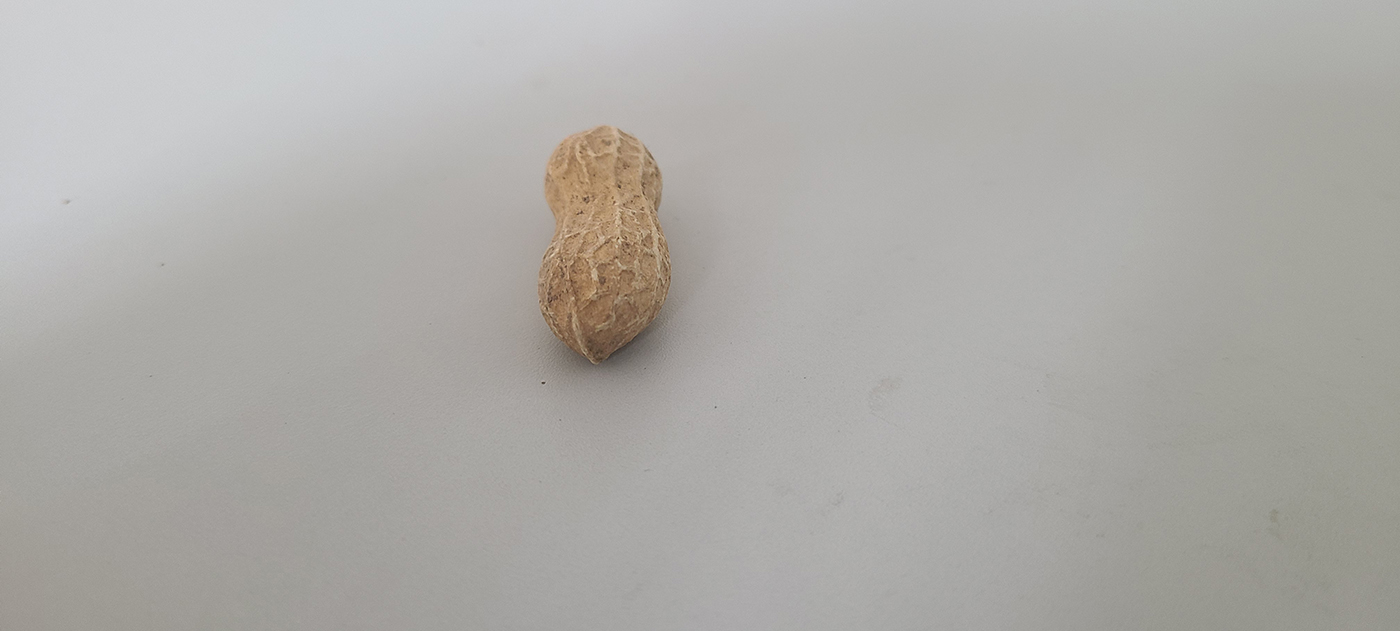h: (536, 124, 674, 367)
